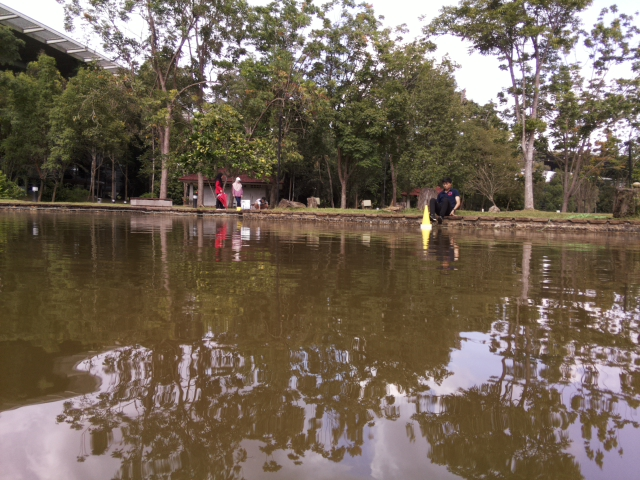checkpoint: (419, 204, 433, 229)
